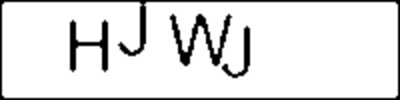H: (66, 18, 114, 74)
J: (219, 21, 253, 82), (116, 1, 150, 60)
W: (167, 10, 234, 68)
